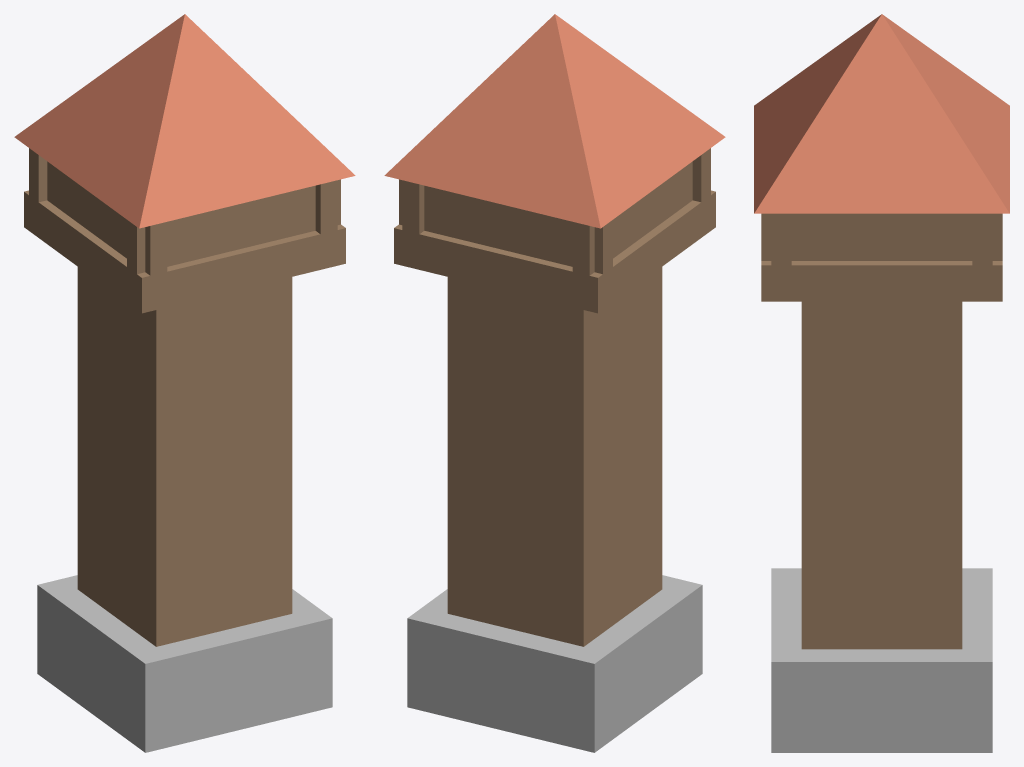
File: watch_tower.glb
The picture shows the model from 3 angles, left to right: view 1: azimuth 30°, elevation 25°; view 2: azimuth 150°, elevation 25°; view 3: azimuth 270°, elevation 25°; orthographic projection. The views are drawn at different scales.
Parts seen in each view (by area): view 1: Cube.001, Cone, Cube, Cube.002, Cube.005, Cube.003, Cube.004, Cube.006; view 2: Cube.001, Cone, Cube, Cube.002, Cube.006, Cube.003, Cube.004, Cube.005; view 3: Cube.001, Cone, Cube, Cube.004, Cube.002, Cube.005, Cube.006.
Part boxes in pixels (x1,y1,x2,y2): Cube.001: (77, 267, 292, 646); Cone: (14, 14, 355, 228); Cube: (37, 575, 332, 752); Cube.002: (24, 190, 345, 313); Cube.005: (127, 179, 340, 274); Cube.003: (47, 161, 167, 275); Cube.004: (315, 180, 337, 234); Cube.006: (29, 148, 47, 202); Cube.001: (447, 267, 662, 646); Cone: (384, 14, 725, 228); Cube: (407, 575, 702, 752); Cube.002: (394, 190, 715, 313); Cube.006: (399, 179, 612, 274); Cube.003: (572, 161, 692, 275); Cube.004: (402, 180, 424, 234); Cube.005: (692, 148, 710, 202); Cube.001: (801, 301, 962, 649); Cone: (754, 14, 1009, 213); Cube: (771, 568, 992, 752); Cube.004: (761, 213, 1002, 260); Cube.002: (761, 261, 1002, 301); Cube.005: (771, 213, 791, 265); Cube.006: (972, 213, 992, 265).
Bounding box in the file's own units: 2.55 × 7.6 × 2.55.
